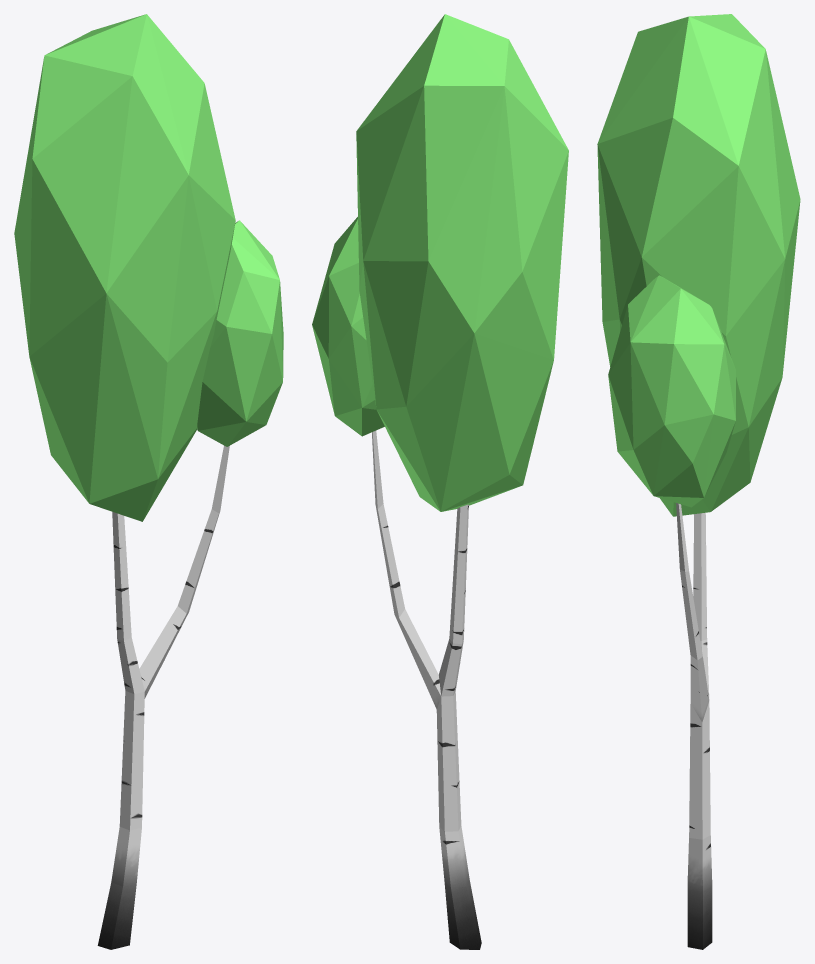
Rendered from Birch_Tree_l_01.fbx.
3 renders of one model, left to right at view 1: azimuth 30°, elevation 25°; view 2: azimuth 150°, elevation 25°; view 3: azimuth 270°, elevation 25°, orthographic. The views are drawn at different scales.
Visible parts, largest first — view 1: Birch_Tree_l_01; view 2: Birch_Tree_l_01; view 3: Birch_Tree_l_01.
Part boxes in pixels (<box>): Birch_Tree_l_01: <box>14,14,283,949</box>; Birch_Tree_l_01: <box>312,14,568,949</box>; Birch_Tree_l_01: <box>597,14,800,949</box>.
Size of the model in its own units: 452 by 1637 by 321.
